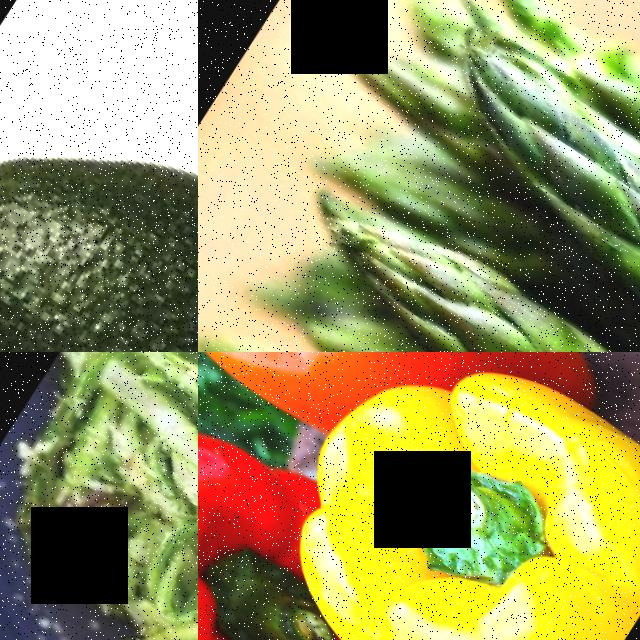asparagus: (439, 50, 640, 352), (343, 195, 640, 352)
avocado: (0, 34, 198, 352), (118, 0, 198, 352)
bell pepper: (267, 352, 640, 640), (198, 395, 444, 640), (198, 352, 466, 432)
